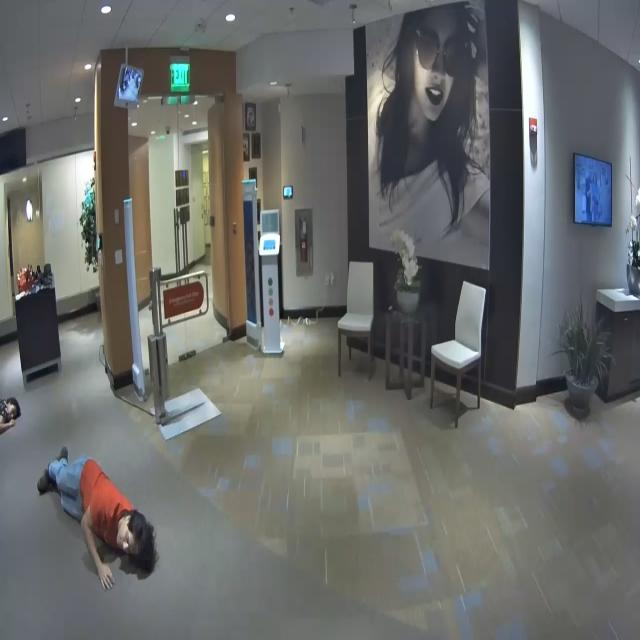fall: (34, 432, 168, 606)
